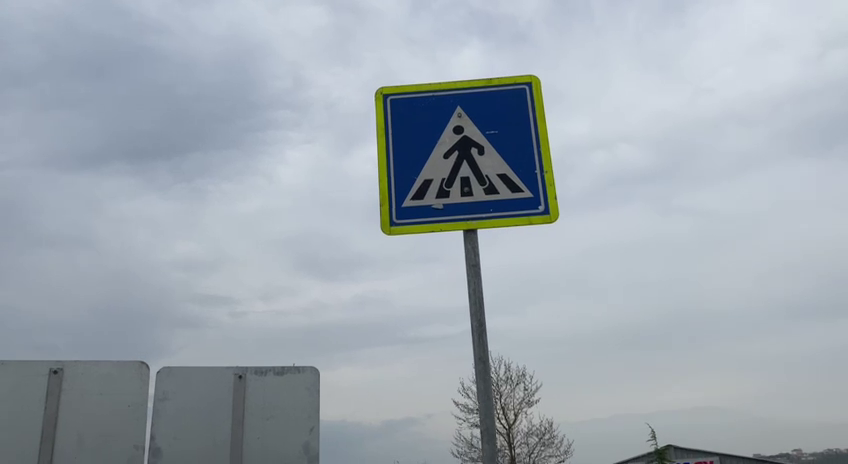pedestrianCrossing: (373, 73, 562, 239)
